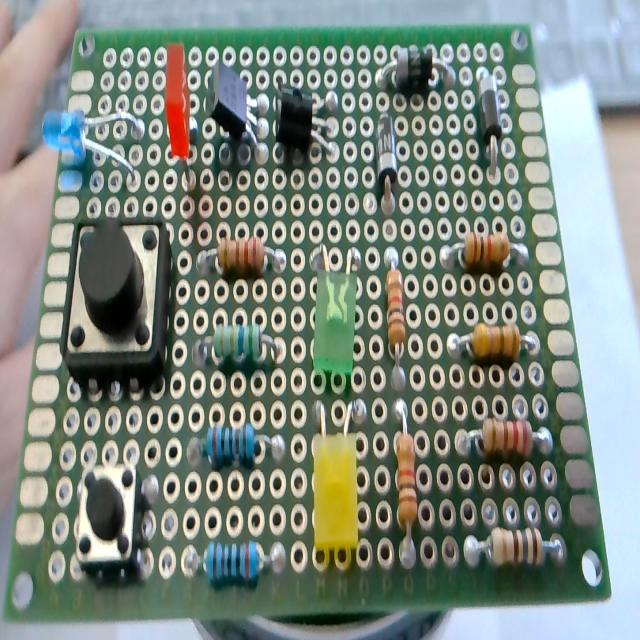diode: (462, 65, 506, 185), (369, 48, 462, 93), (370, 100, 402, 222)
led: (305, 394, 369, 570), (37, 86, 141, 193), (300, 228, 366, 386), (160, 40, 200, 201)
resistor: (381, 394, 421, 570), (462, 508, 564, 577), (186, 529, 288, 587), (448, 307, 540, 369), (187, 410, 281, 468), (454, 399, 550, 455), (429, 222, 525, 275), (188, 238, 284, 284), (197, 321, 274, 373), (383, 242, 411, 383)
switch: (56, 212, 176, 404), (73, 449, 147, 586)
transistor: (274, 42, 342, 173), (207, 53, 270, 183)
